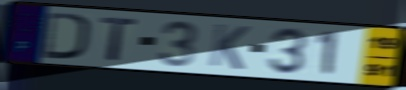1: (314, 30, 338, 78)
3: (267, 26, 310, 75), (157, 19, 198, 68)
D: (41, 10, 90, 62)
K: (207, 22, 252, 72)
T: (99, 15, 140, 63)
